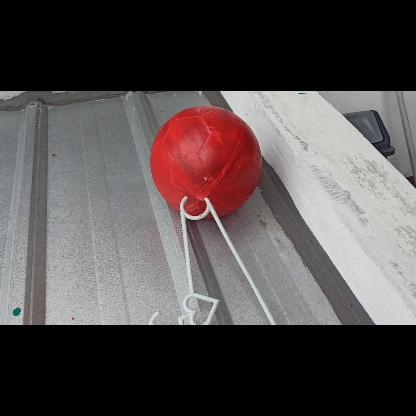red_ball: (148, 106, 262, 218)
